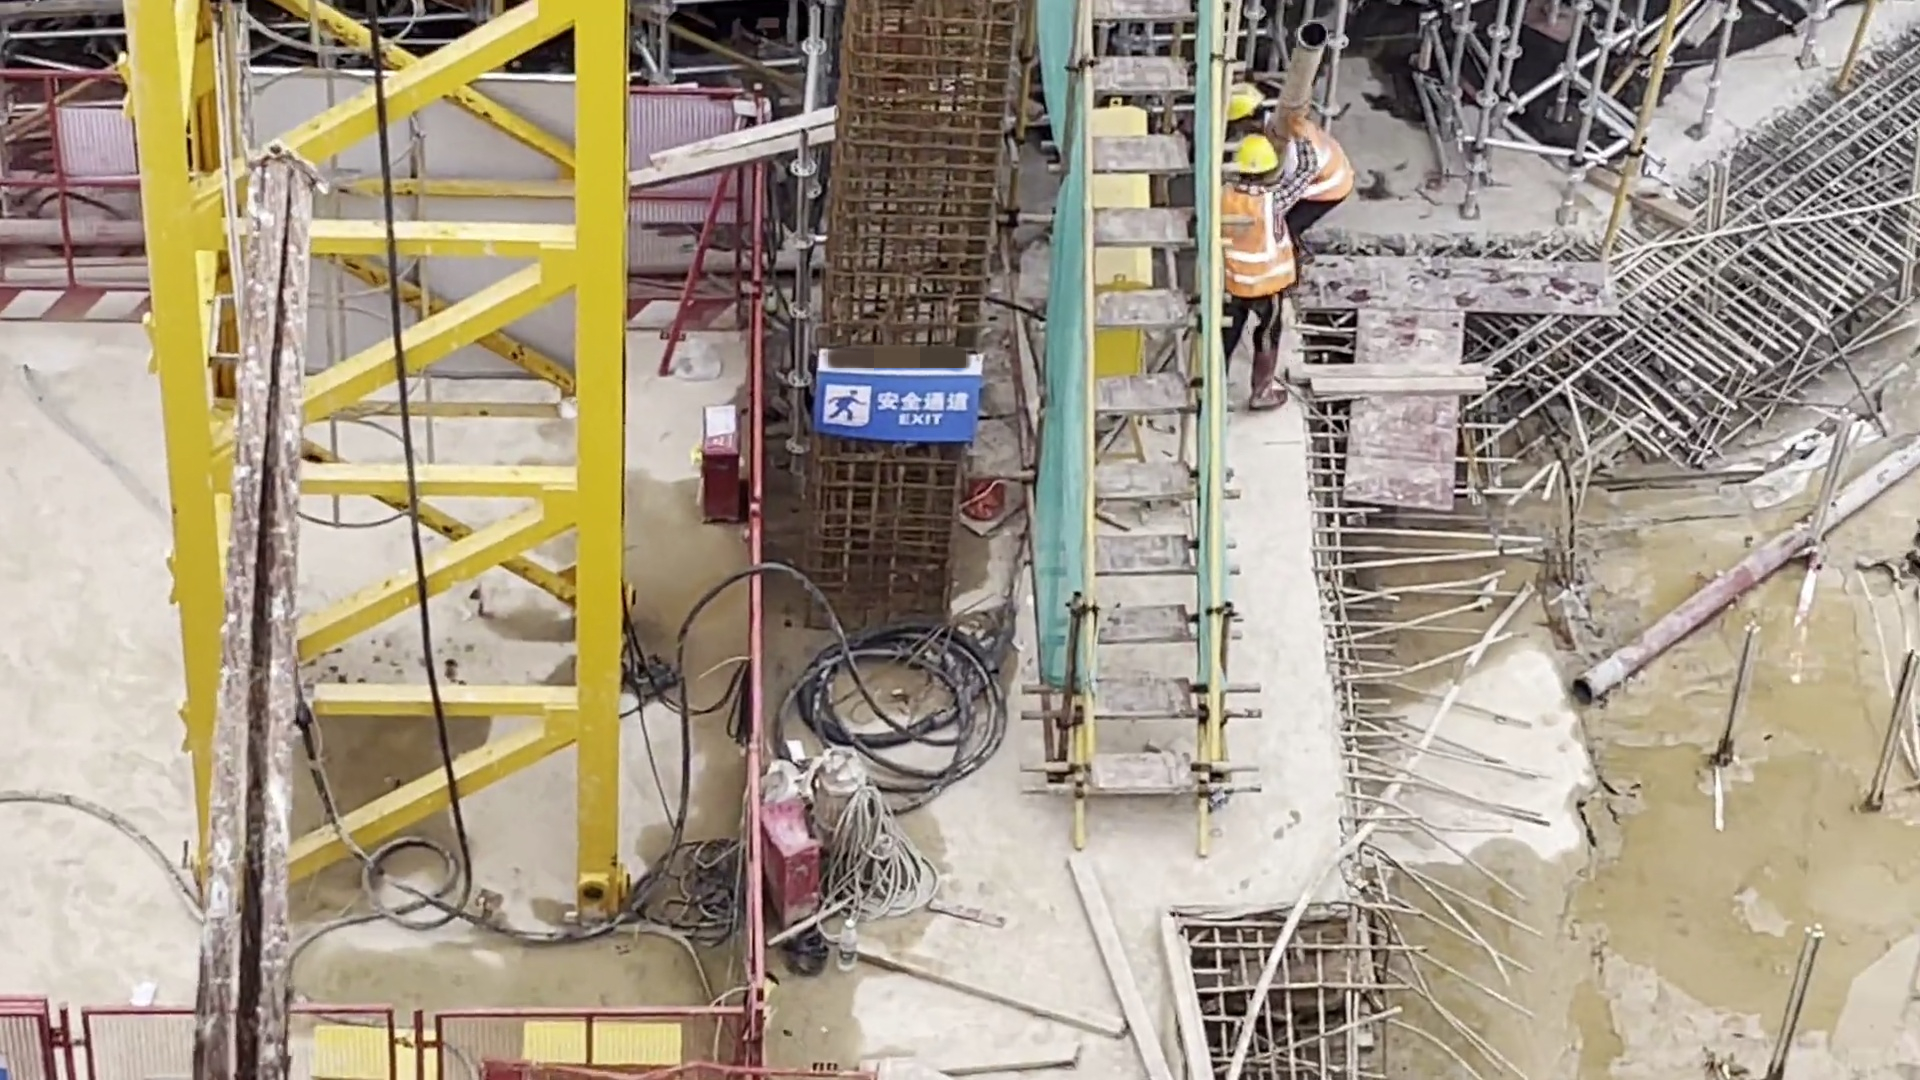ebox: (1081, 91, 1163, 400)
fence: (1, 71, 753, 326), (1, 1001, 754, 1080), (743, 82, 757, 1080)
helmet: (1229, 137, 1282, 176), (1226, 82, 1270, 123)
person: (1221, 132, 1306, 395), (1226, 76, 1349, 216)
vest: (1221, 185, 1296, 300), (1288, 119, 1348, 215)
